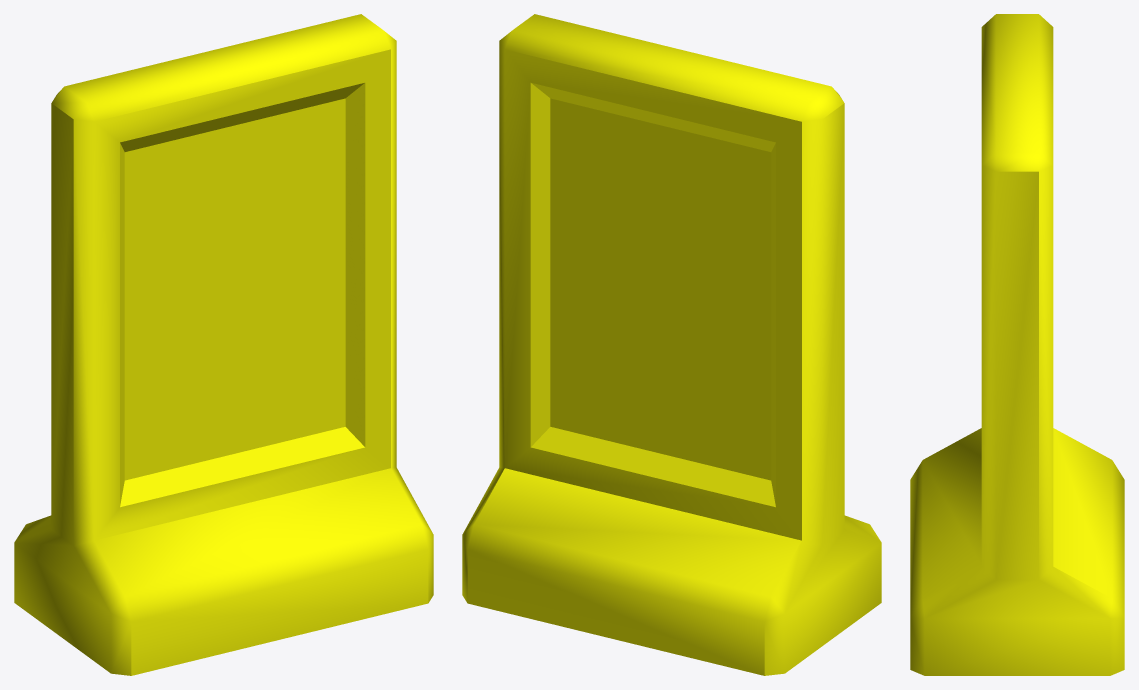
File: kaykit-menu.glb
3 renders of one model, left to right at view 1: azimuth 30°, elevation 25°; view 2: azimuth 150°, elevation 25°; view 3: azimuth 270°, elevation 25°, orthographic. The views are drawn at different scales.
Visible parts, largest first — view 1: menu; view 2: menu; view 3: menu.
Boxes of the visible parts, bbox=[...] form: menu: bbox=[14, 14, 433, 675]; menu: bbox=[462, 14, 881, 675]; menu: bbox=[910, 14, 1124, 675].
Bounding box in the file's own units: 0.5 × 0.8 × 0.3.
